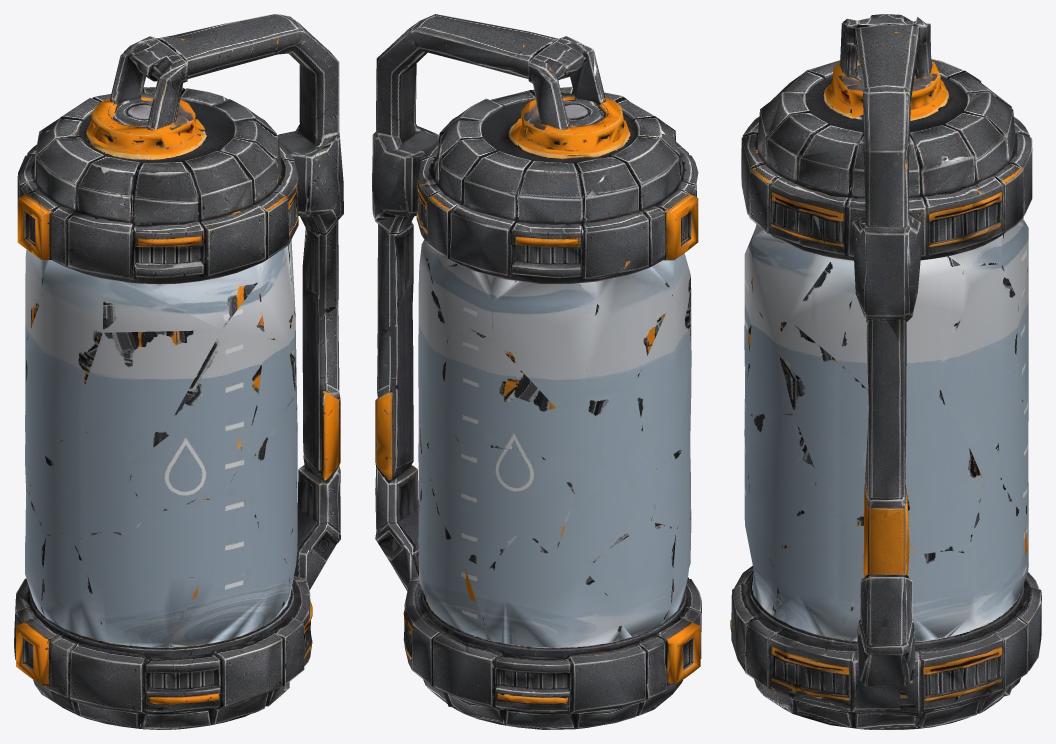
The model's file is water_flask.glb.
3 renders of one model, left to right at view 1: azimuth 30°, elevation 25°; view 2: azimuth 150°, elevation 25°; view 3: azimuth 270°, elevation 25°, orthographic. The views are drawn at different scales.
Parts seen in each view (by area): view 1: Body, Glass; view 2: Body, Glass; view 3: Body, Glass.
Part boxes in pixels (x1=…): Body: x1=14, y1=14, x2=343, y2=729; Glass: x1=25, y1=244, x2=309, y2=642; Body: x1=372, y1=14, x2=701, y2=729; Glass: x1=409, y1=244, x2=691, y2=626; Body: x1=730, y1=14, x2=1041, y2=729; Glass: x1=744, y1=228, x2=1028, y2=636.
Size of the model in its own units: 0.9724 by 1.9 by 0.8184.
Materials: 1 (1 with a texture image).
